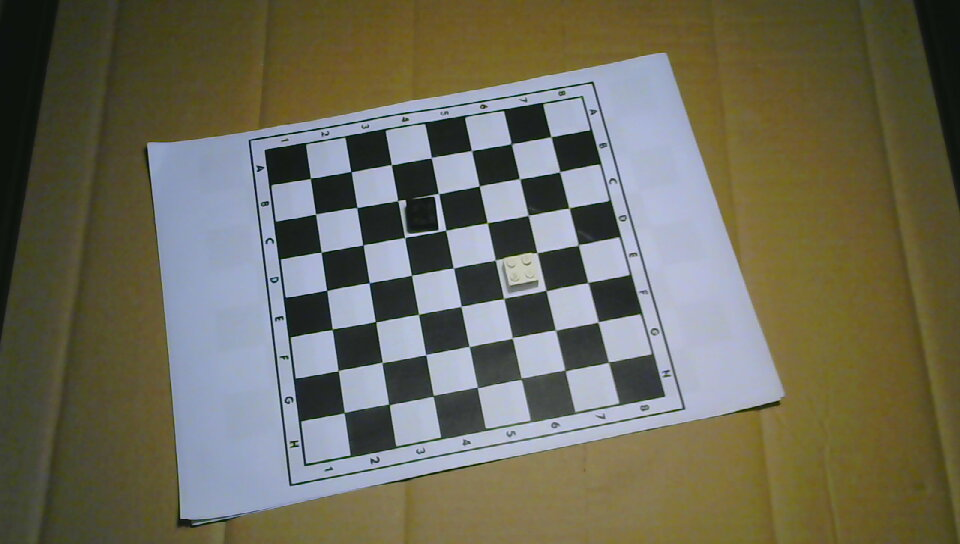bp: (404, 198, 439, 233)
wp: (502, 253, 539, 293)
